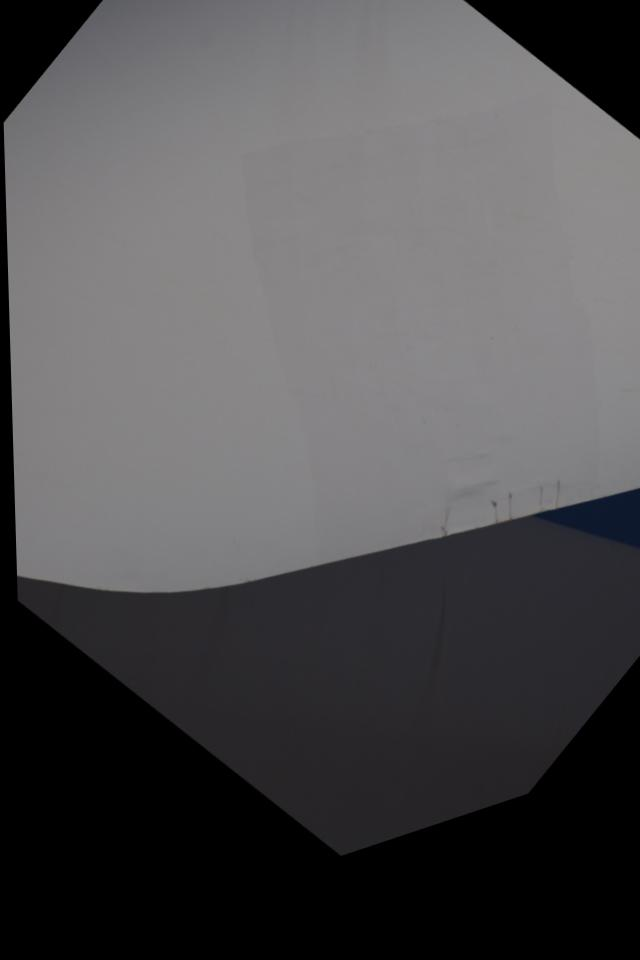damage: (537, 510, 569, 550), (427, 534, 457, 571), (492, 521, 521, 556), (522, 515, 550, 550), (478, 525, 504, 559)
